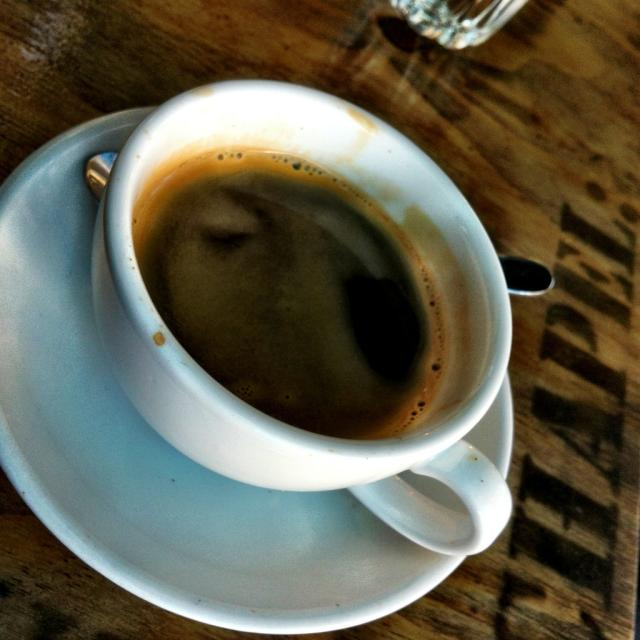Coffee: (131, 146, 458, 440)
